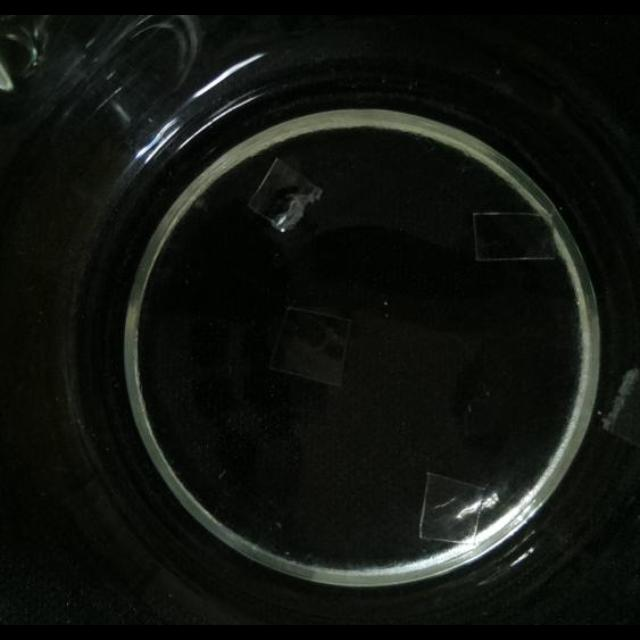Film: (269, 306, 351, 388), (246, 156, 326, 232), (415, 469, 493, 546), (468, 210, 558, 262), (602, 366, 640, 444)
